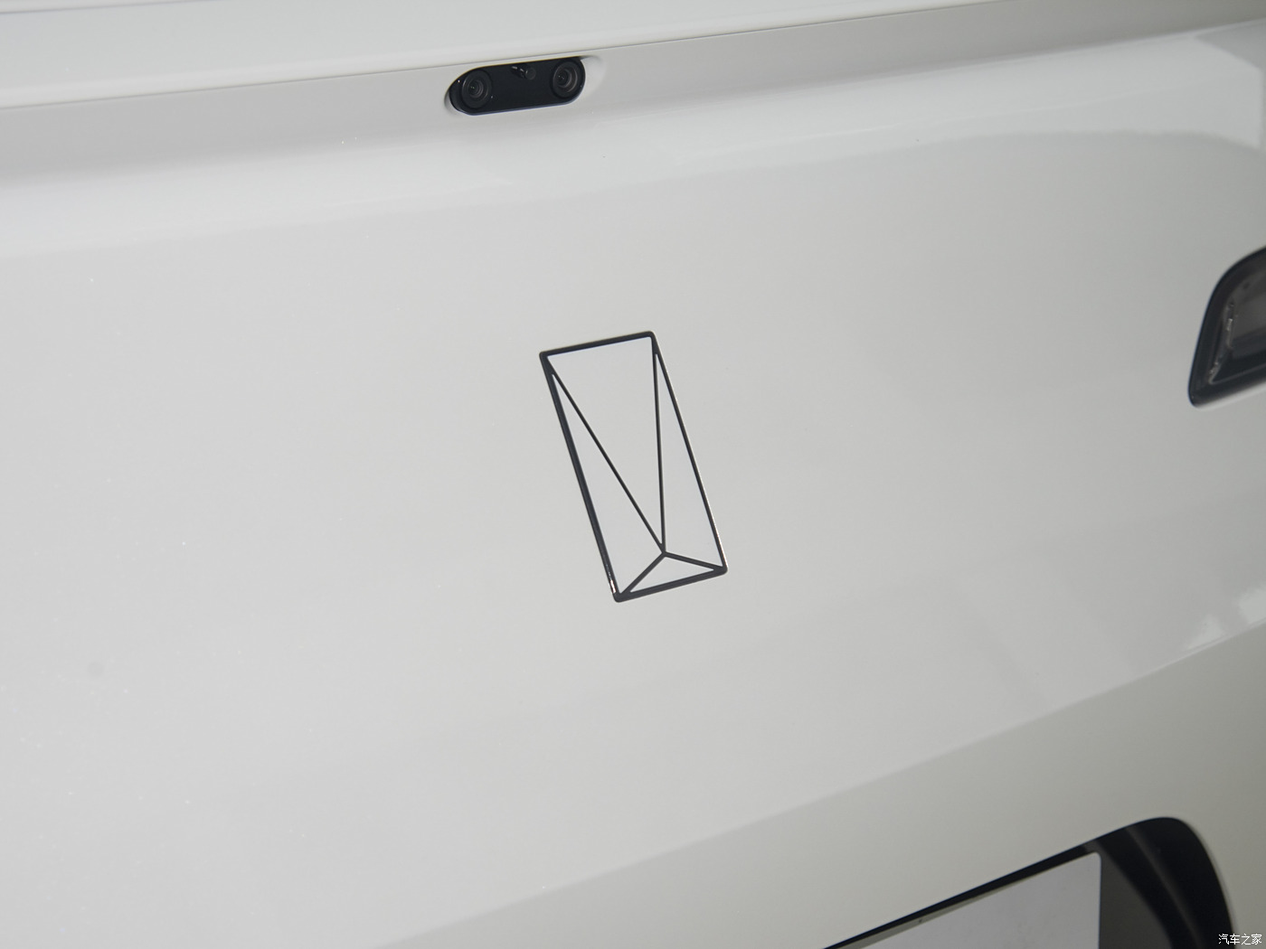AVATR: (540, 333, 727, 602)
